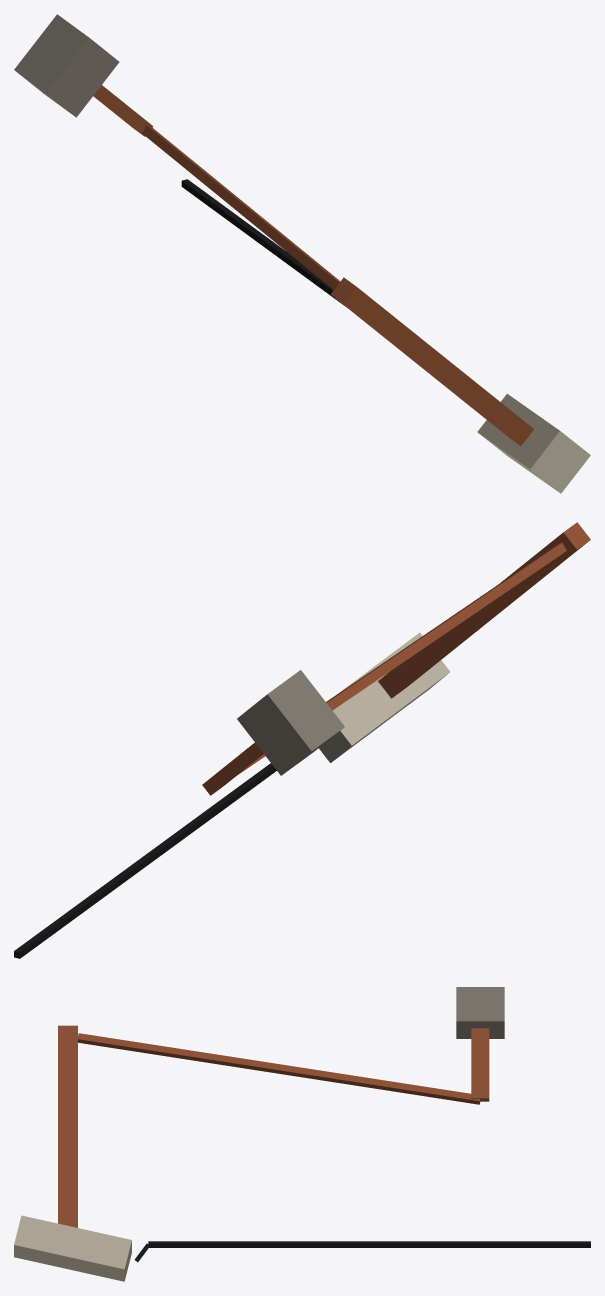
3 renders of one model, top to bottom at view 1: azimuth 30°, elevation 25°; view 2: azimuth 150°, elevation 25°; view 3: azimuth 270°, elevation 25°, orthographic. The views are drawn at different scales.
Visible parts, largest first — view 1: t00_g29_p0; view 2: t00_g29_p0; view 3: t00_g29_p0.
Part boxes in pixels (<box>): t00_g29_p0: <box>14,14,590,493</box>; t00_g29_p0: <box>14,522,590,958</box>; t00_g29_p0: <box>14,987,590,1281</box>.
Bounding box in the file's own units: 11.4 × 12.3 × 28.68.
